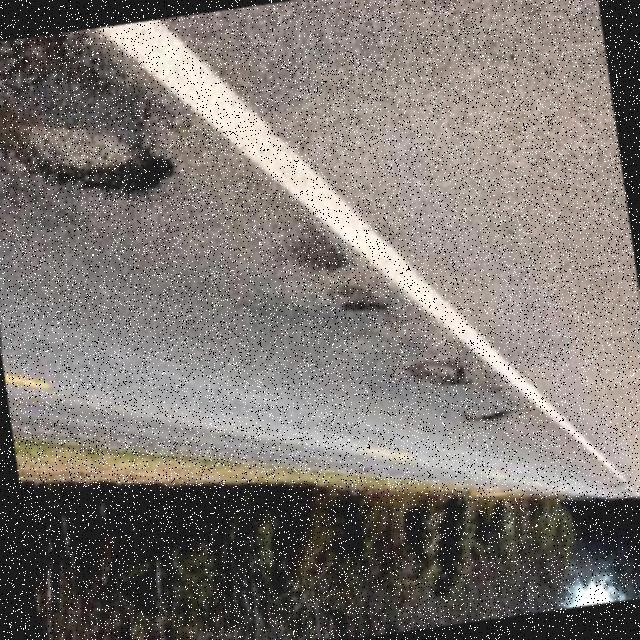Pothole: (0, 116, 174, 195), (0, 34, 163, 111), (293, 236, 349, 271), (406, 363, 470, 386), (338, 287, 390, 311), (464, 409, 515, 422)
